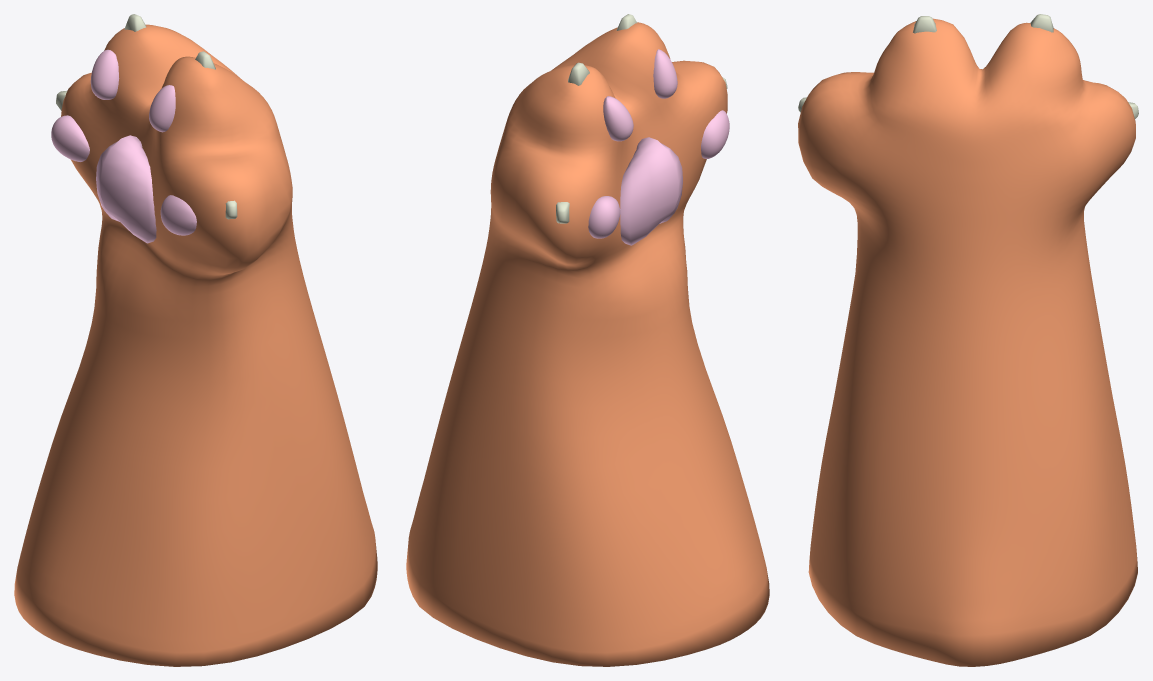
The model's file is PawModelBlendshaped.fbx.
3 renders of one model, left to right at view 1: azimuth 30°, elevation 25°; view 2: azimuth 150°, elevation 25°; view 3: azimuth 270°, elevation 25°, orthographic.
Parts seen in each view (by area): view 1: Cube.005; view 2: Cube.005; view 3: Cube.005.
Boxes of the visible parts, left/top/right/bottom form: Cube.005: left=14, top=14, right=377, bottom=666; Cube.005: left=406, top=14, right=769, bottom=666; Cube.005: left=798, top=14, right=1138, bottom=666.
Size of the model in its own units: 94.25 by 153 by 83.65.
